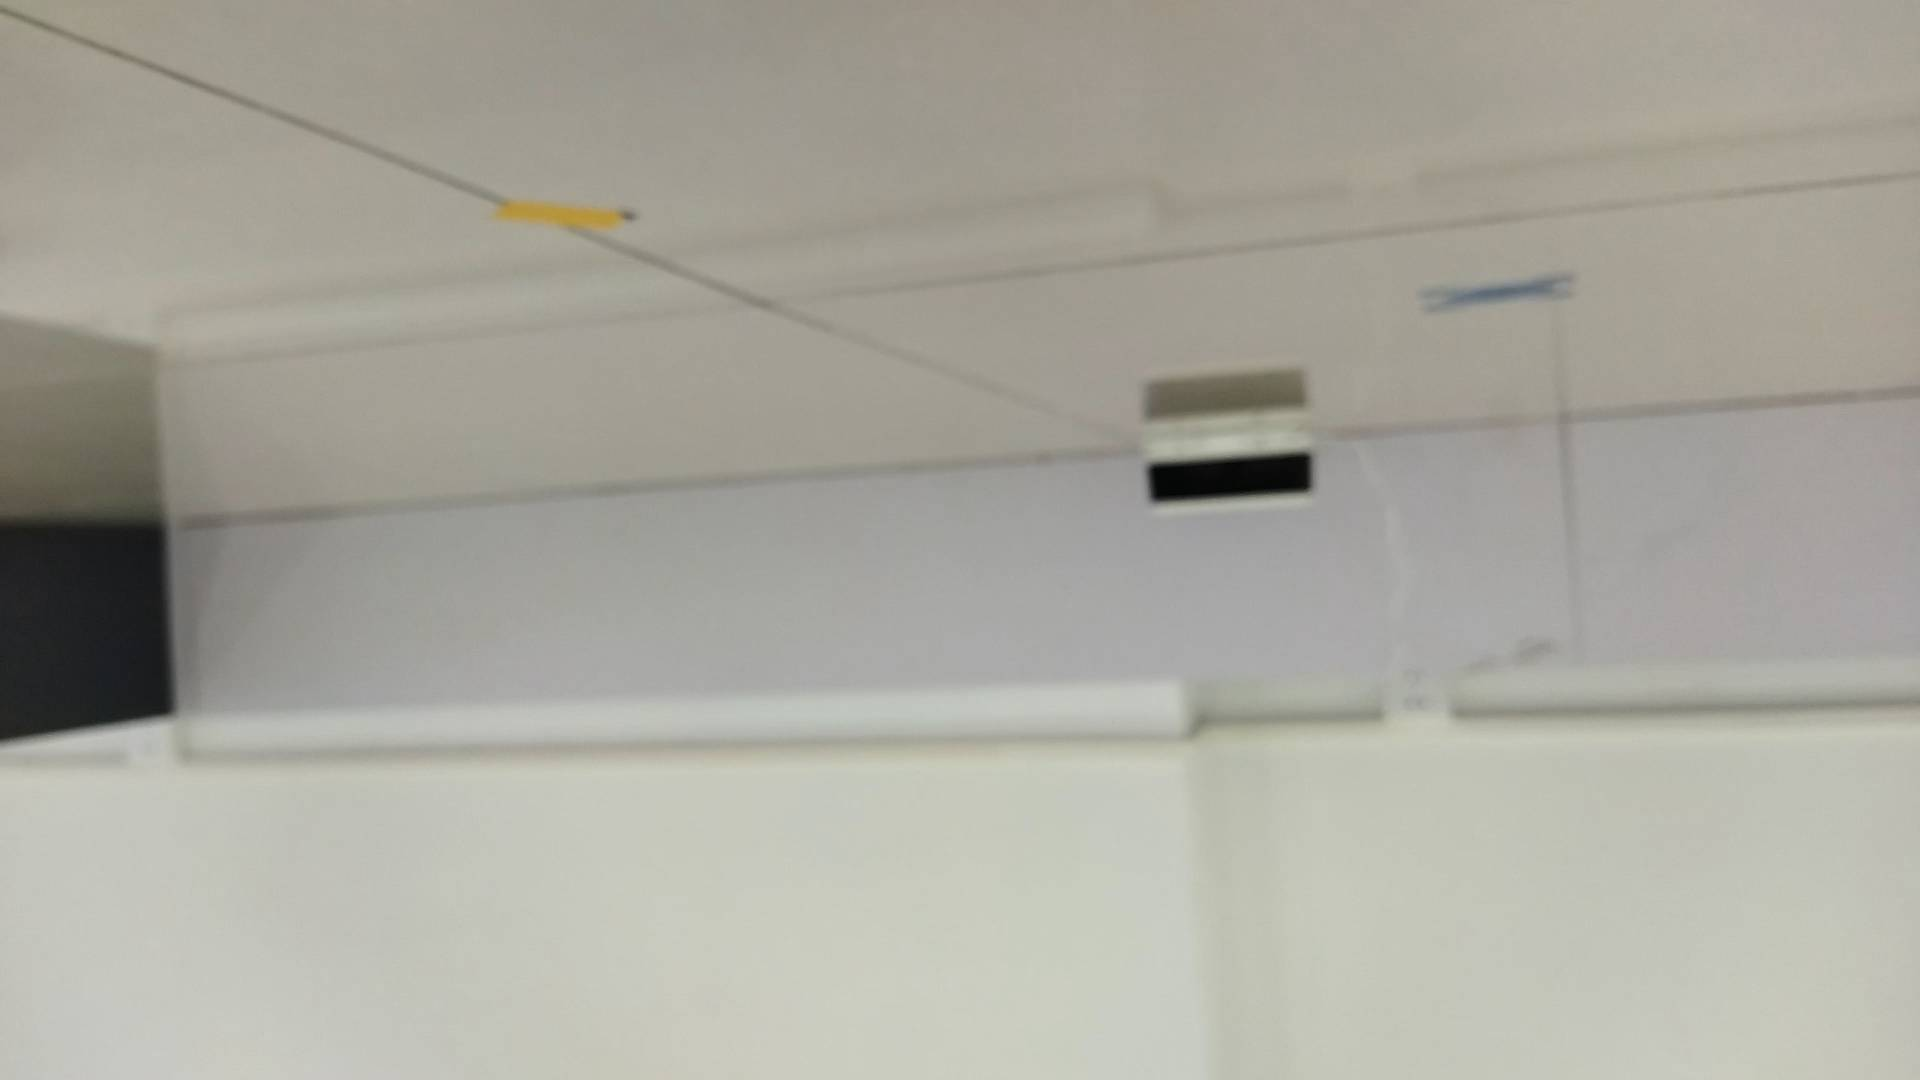recharge seat: (1137, 407, 1325, 517)
